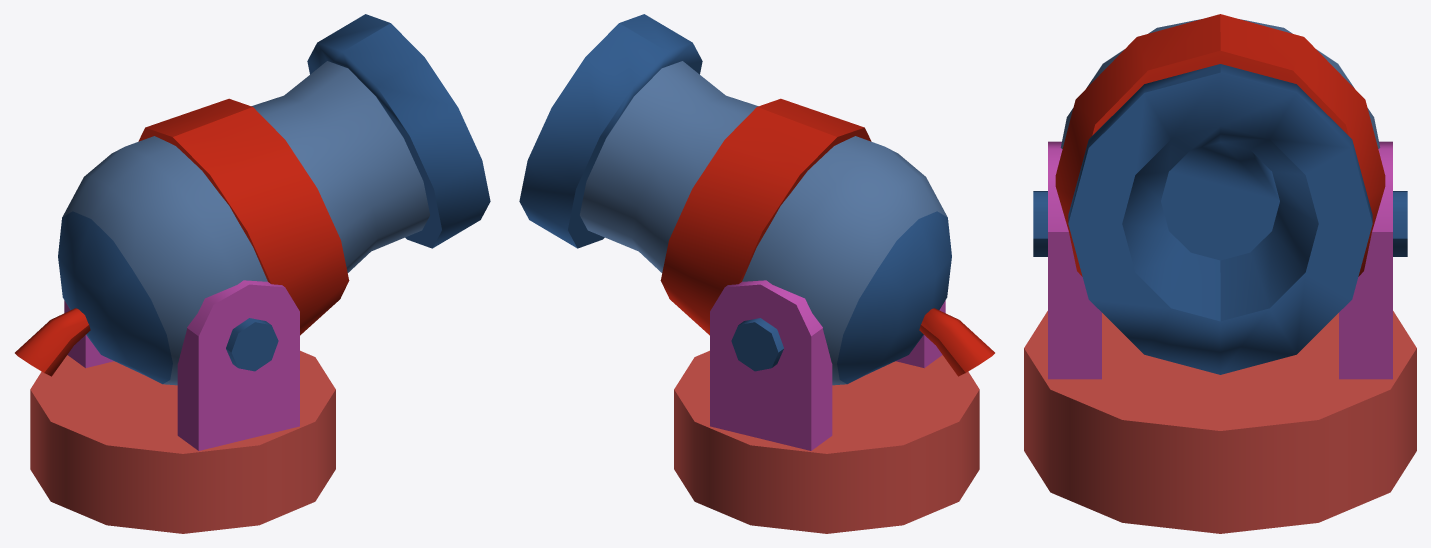
The model's file is pushka_Lv1.fbx.
3 renders of one model, left to right at view 1: azimuth 30°, elevation 25°; view 2: azimuth 150°, elevation 25°; view 3: azimuth 270°, elevation 25°, orthographic. The views are drawn at different scales.
Visible parts, largest first — view 1: wTube.004, wSphere, wTube.011, wTube.010, wTube.007, wTube.009, wTube.012, wTube.008; view 2: wTube.004, wSphere, wTube.011, wTube.010, wTube.007, wTube.009, wTube.012, wTube.008; view 3: wTube.009, wTube.004, wTube.011, wTube.007, wTube.008, wSphere.
Boxes of the visible parts, <box> form: wTube.004: <box>30,350,335,533</box>; wSphere: <box>58,136,267,385</box>; wTube.011: <box>138,98,349,335</box>; wTube.010: <box>251,61,429,272</box>; wTube.007: <box>64,280,299,450</box>; wTube.009: <box>307,14,490,248</box>; wTube.012: <box>15,308,90,376</box>; wTube.008: <box>226,318,278,371</box>; wTube.004: <box>674,350,979,533</box>; wSphere: <box>742,136,951,385</box>; wTube.011: <box>660,98,871,335</box>; wTube.010: <box>580,61,758,272</box>; wTube.007: <box>710,280,945,450</box>; wTube.009: <box>519,14,702,248</box>; wTube.012: <box>919,308,994,376</box>; wTube.008: <box>731,318,783,371</box>; wTube.009: <box>1068,64,1372,374</box>; wTube.004: <box>1024,311,1416,533</box>; wTube.011: <box>1055,14,1385,276</box>; wTube.007: <box>1048,141,1392,379</box>; wTube.008: <box>1033,191,1407,256</box>; wSphere: <box>1060,19,1380,148</box>.
Size of the model in its own units: 502 by 434 by 304.
